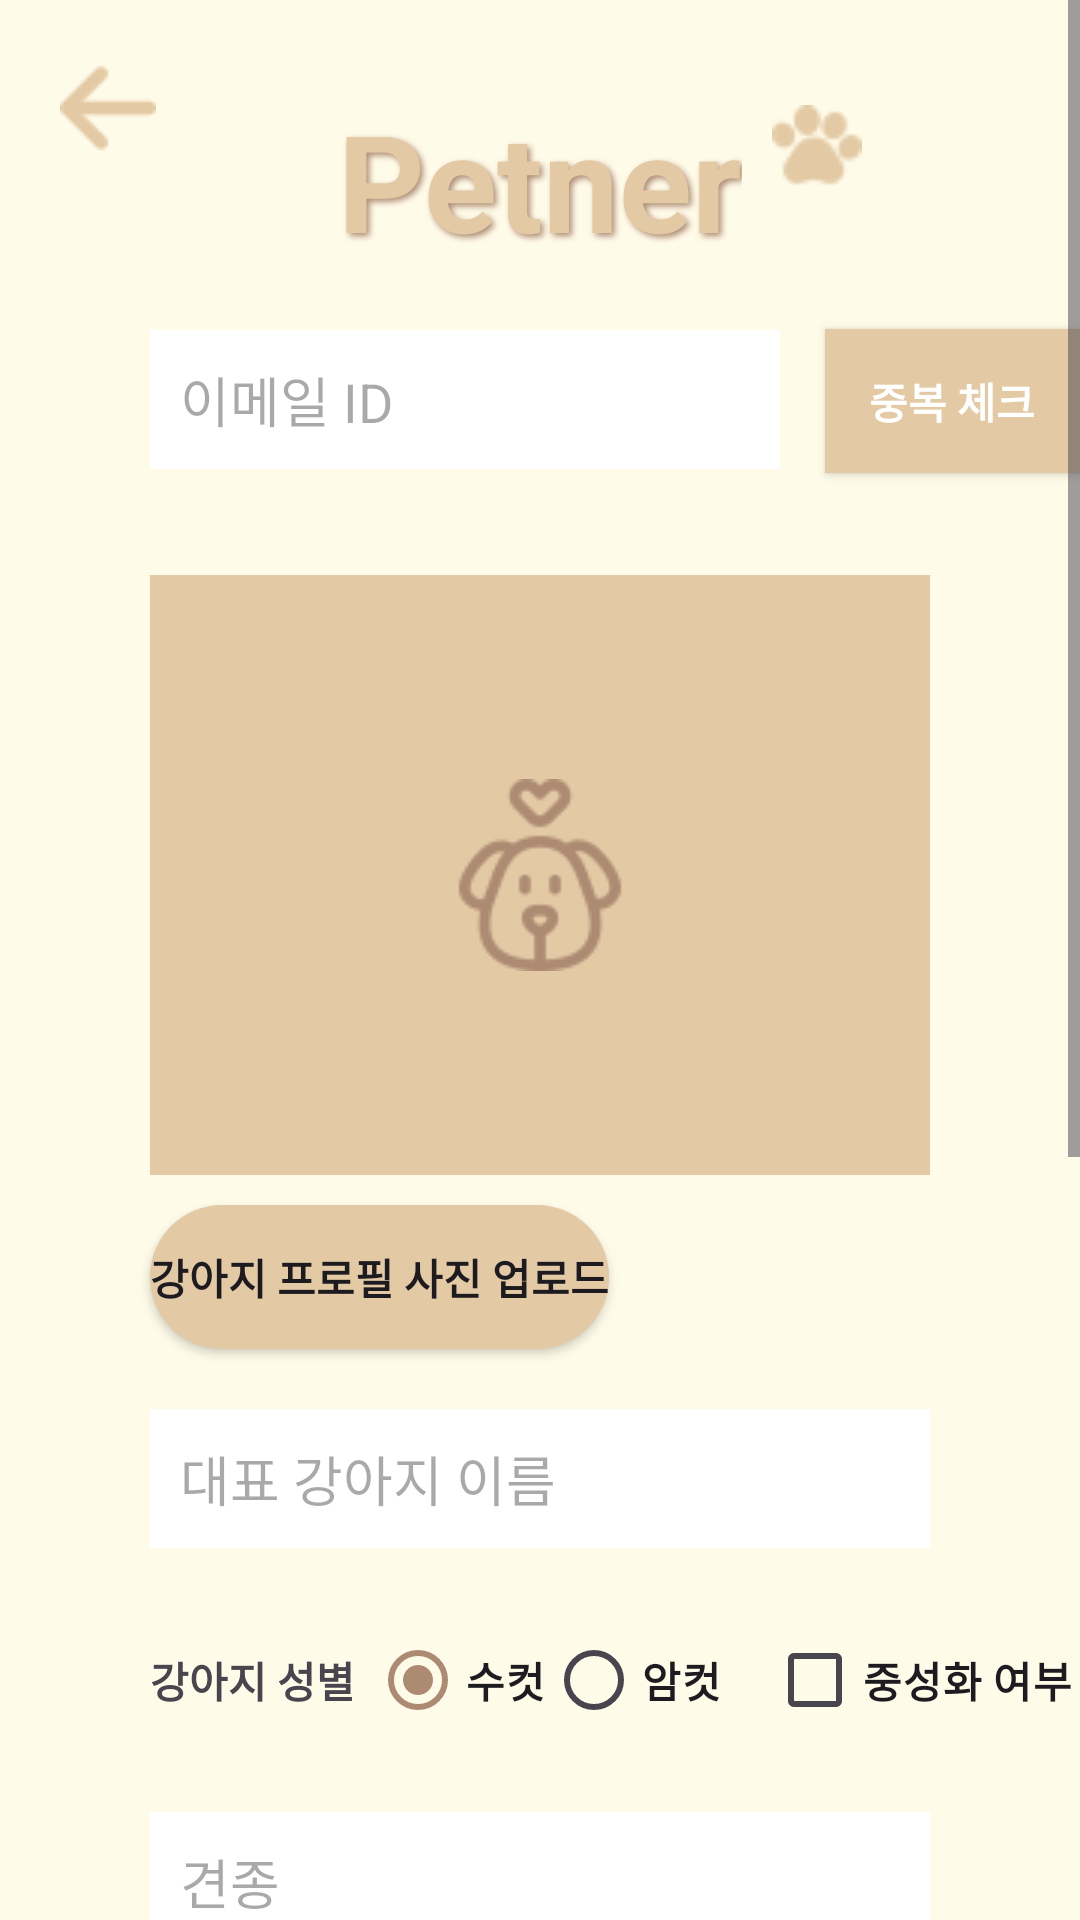

Icons on this 1080px x 1920px Android screen, each with the point to tap as (x,y):
arrow: (108,108)
pawprint: (817,144)
